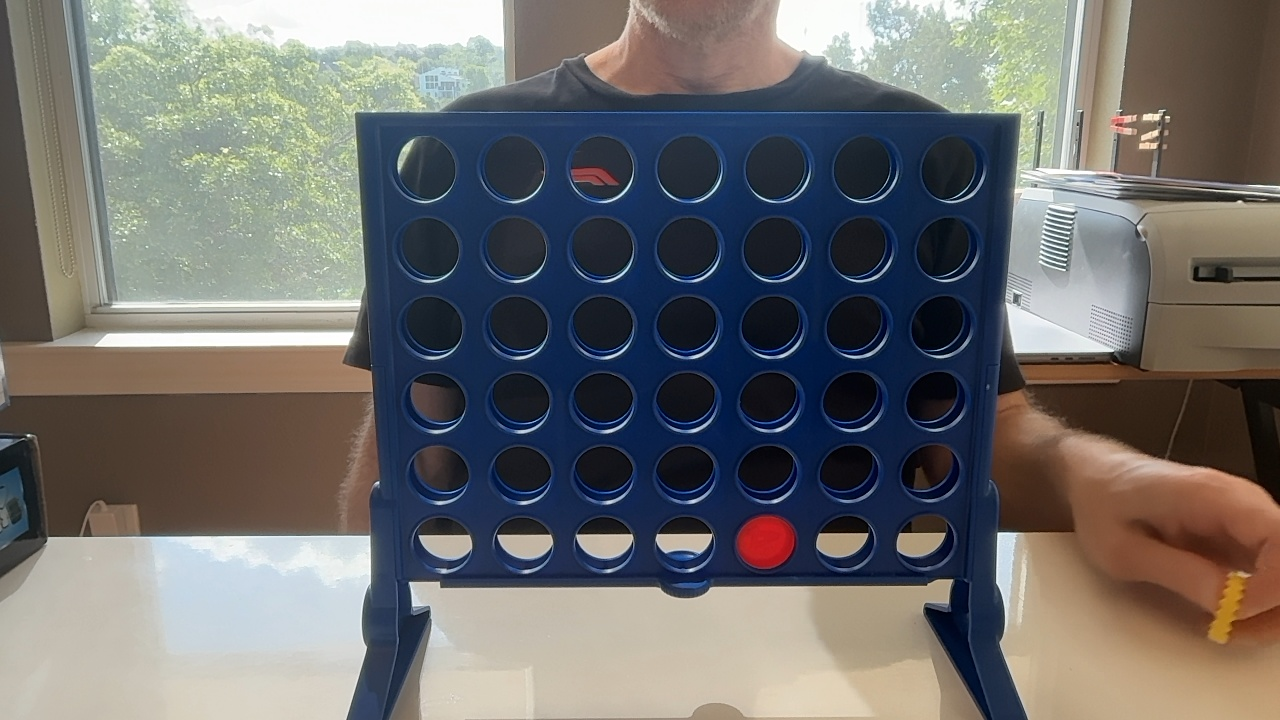red piece: (736, 515, 795, 569)
